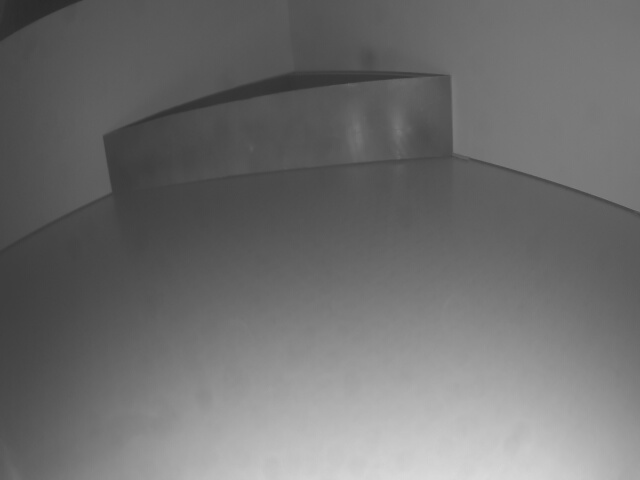Green: (104, 76, 452, 196)
